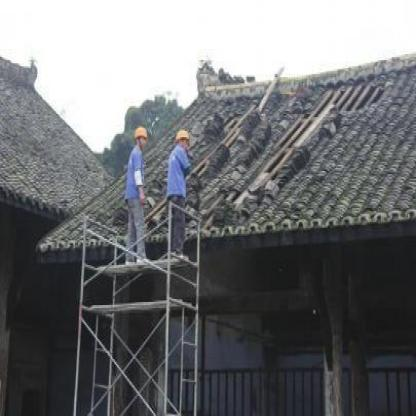helmet: (132, 124, 148, 150), (176, 125, 190, 151)
